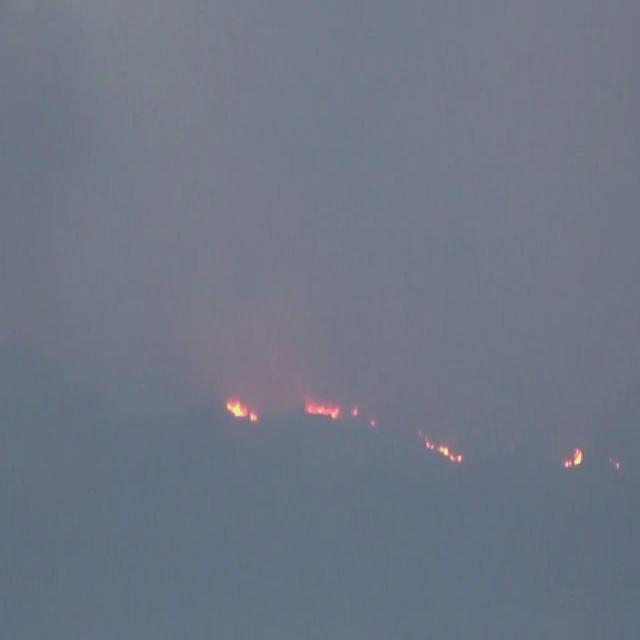Fire: (413, 428, 462, 466), (224, 398, 258, 425), (304, 401, 341, 418), (562, 448, 582, 468)
